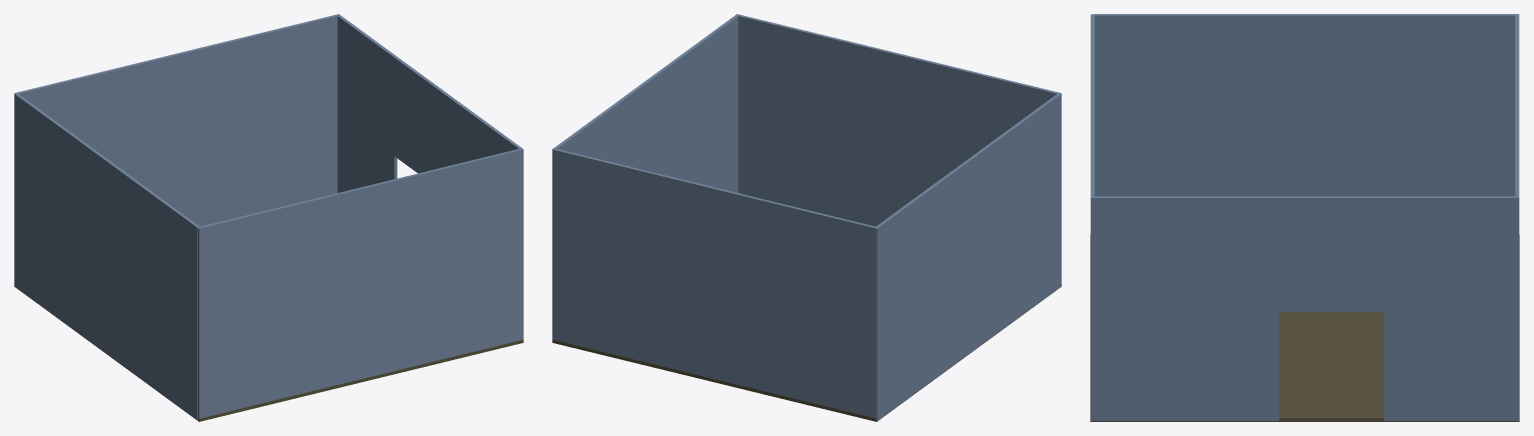
File: ChrisRoom.fbx
3 renders of one model, left to right at view 1: azimuth 30°, elevation 25°; view 2: azimuth 150°, elevation 25°; view 3: azimuth 270°, elevation 25°, orthographic. The views are drawn at different scales.
Parts seen in each view (by area): view 1: Cube.001, Cube.002, Cube.003, Cube.005, Cube.006, Cube.004, Cube; view 2: Cube.002, Cube.001, Cube.003, Cube.004, Cube.006, Cube.005, Cube; view 3: Cube.003, Cube.004, Cube.005, Cube.006, Cube, Cube.002, Cube.001.
Boxes of the visible parts, x1,y1,x2,y2 form: Cube.001: (198,148,523,420); Cube.002: (14,14,338,226); Cube.003: (14,93,199,420); Cube.005: (337,14,397,192); Cube.006: (393,55,442,173); Cube.004: (439,89,521,168); Cube: (14,286,523,421); Cube.002: (552,148,877,420); Cube.001: (736,14,1061,283); Cube.003: (875,94,1060,420); Cube.004: (656,14,739,192); Cube.006: (611,73,660,173); Cube.005: (552,106,612,162); Cube: (552,283,1061,421); Cube.003: (1093,14,1518,196); Cube.004: (1090,196,1279,420); Cube.005: (1384,196,1518,420); Cube.006: (1274,196,1387,312); Cube: (1090,235,1519,421); Cube.002: (1515,14,1519,420); Cube.001: (1090,14,1094,197).
Size of the model in its own units: 3269 by 1858 by 3224.
